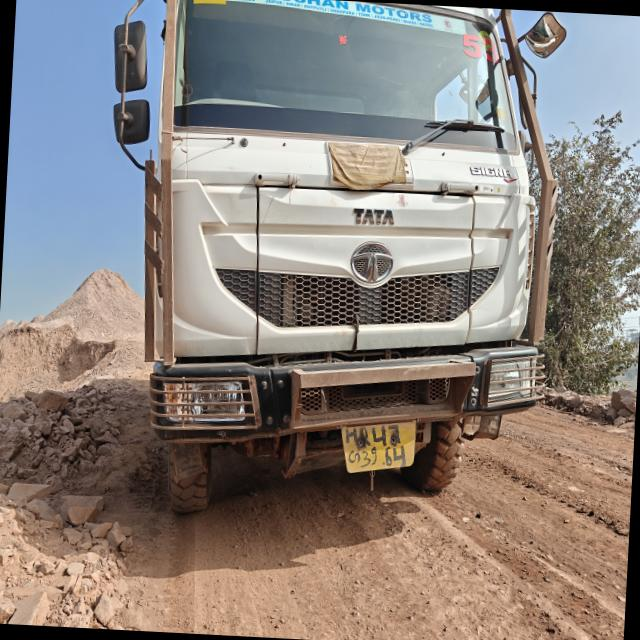license_plate: (342, 422, 416, 473)
